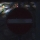No entry: (6, 6, 35, 35)
